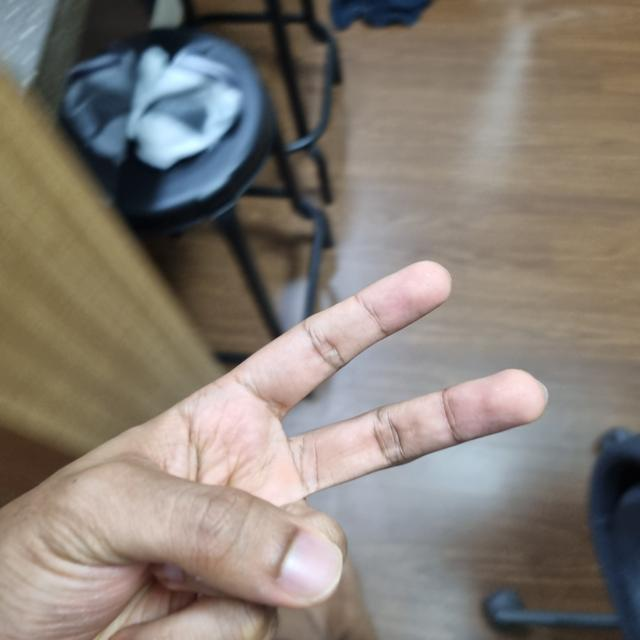Scissors: (0, 264, 544, 639)
